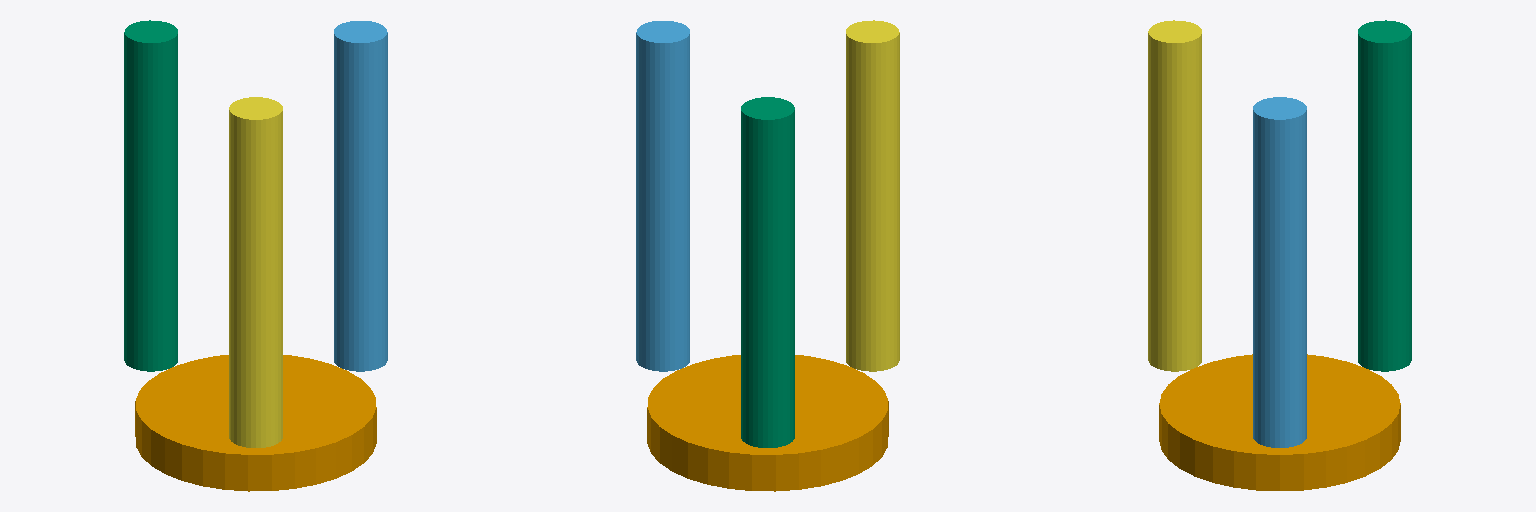
The robot description file, URDF, robot "Wrap_Gripper_-_Dry_-_Rigid_Objects":
<?xml version="1.0"?>
<robot name="Wrap_Gripper_-_Dry_-_Rigid_Objects">

    <link name="palm_link">
        <visual>
            <geometry>
                <cylinder radius="0.0300" length="0.0100"/>
            </geometry>
        </visual>
        <collision>
            <geometry>
                <cylinder radius="0.0300" length="0.0100"/>
            </geometry>
        </collision>
    </link>

    
    <link name="finger_0_link">
        <visual>
            <geometry>
                <cylinder radius="0.0067" length="0.0900"/>
            </geometry>
            <origin xyz="0 0 0.0450"/>
        </visual>
        <collision>
            <geometry>
                <cylinder radius="0.0067" length="0.0900"/>
            </geometry>
            <origin xyz="0 0 0.0450"/>
        </collision>
    </link>

    <joint name="finger_0_joint" type="revolute">
        <parent link="palm_link"/>
        <child link="finger_0_link"/>
        <origin xyz="0.0300 0.0000 0.0100" rpy="0 0 0.0000"/>
        <axis xyz="0 1 0"/>
        <limit lower="-1.57" upper="1.57" effort="10" velocity="1"/>
    </joint>

    <link name="finger_1_link">
        <visual>
            <geometry>
                <cylinder radius="0.0067" length="0.0900"/>
            </geometry>
            <origin xyz="0 0 0.0450"/>
        </visual>
        <collision>
            <geometry>
                <cylinder radius="0.0067" length="0.0900"/>
            </geometry>
            <origin xyz="0 0 0.0450"/>
        </collision>
    </link>

    <joint name="finger_1_joint" type="revolute">
        <parent link="palm_link"/>
        <child link="finger_1_link"/>
        <origin xyz="-0.0150 0.0260 0.0100" rpy="0 0 2.0944"/>
        <axis xyz="0 1 0"/>
        <limit lower="-1.57" upper="1.57" effort="10" velocity="1"/>
    </joint>

    <link name="finger_2_link">
        <visual>
            <geometry>
                <cylinder radius="0.0067" length="0.0900"/>
            </geometry>
            <origin xyz="0 0 0.0450"/>
        </visual>
        <collision>
            <geometry>
                <cylinder radius="0.0067" length="0.0900"/>
            </geometry>
            <origin xyz="0 0 0.0450"/>
        </collision>
    </link>

    <joint name="finger_2_joint" type="revolute">
        <parent link="palm_link"/>
        <child link="finger_2_link"/>
        <origin xyz="-0.0150 -0.0260 0.0100" rpy="0 0 4.1888"/>
        <axis xyz="0 1 0"/>
        <limit lower="-1.57" upper="1.57" effort="10" velocity="1"/>
    </joint>

</robot>

--- Facts derived from the render (not from the file) ---
3 views of the same robot in one strip: view 1: azimuth 30°, elevation 25°; view 2: azimuth 150°, elevation 25°; view 3: azimuth 270°, elevation 25° (orthographic).
Model Wrap_Gripper_-_Dry_-_Rigid_Objects with 4 links and 3 joints (3 revolute), rooted at palm_link, posed all joints at 0.
Visible links, largest first — view 1: palm_link, finger_2_link, finger_1_link, finger_0_link; view 2: palm_link, finger_1_link, finger_2_link, finger_0_link; view 3: palm_link, finger_0_link, finger_1_link, finger_2_link.
Boxes of the visible links, x1,y1,x2,y2 form: palm_link: (135,355,376,491); finger_2_link: (229,97,282,447); finger_1_link: (124,20,177,371); finger_0_link: (334,21,387,371); palm_link: (647,355,888,491); finger_1_link: (741,97,794,447); finger_2_link: (846,20,899,371); finger_0_link: (636,21,689,371); palm_link: (1159,354,1400,490); finger_0_link: (1253,97,1306,447); finger_1_link: (1358,20,1411,371); finger_2_link: (1148,20,1201,371).
Bounding box of the posed robot: 0.0667 × 0.0654 × 0.105 m (x, y, z).
Geometry: primitives only (box / cylinder / sphere), no mesh files.